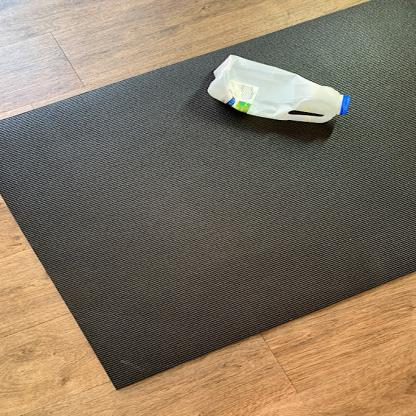trash: (204, 54, 353, 131)
